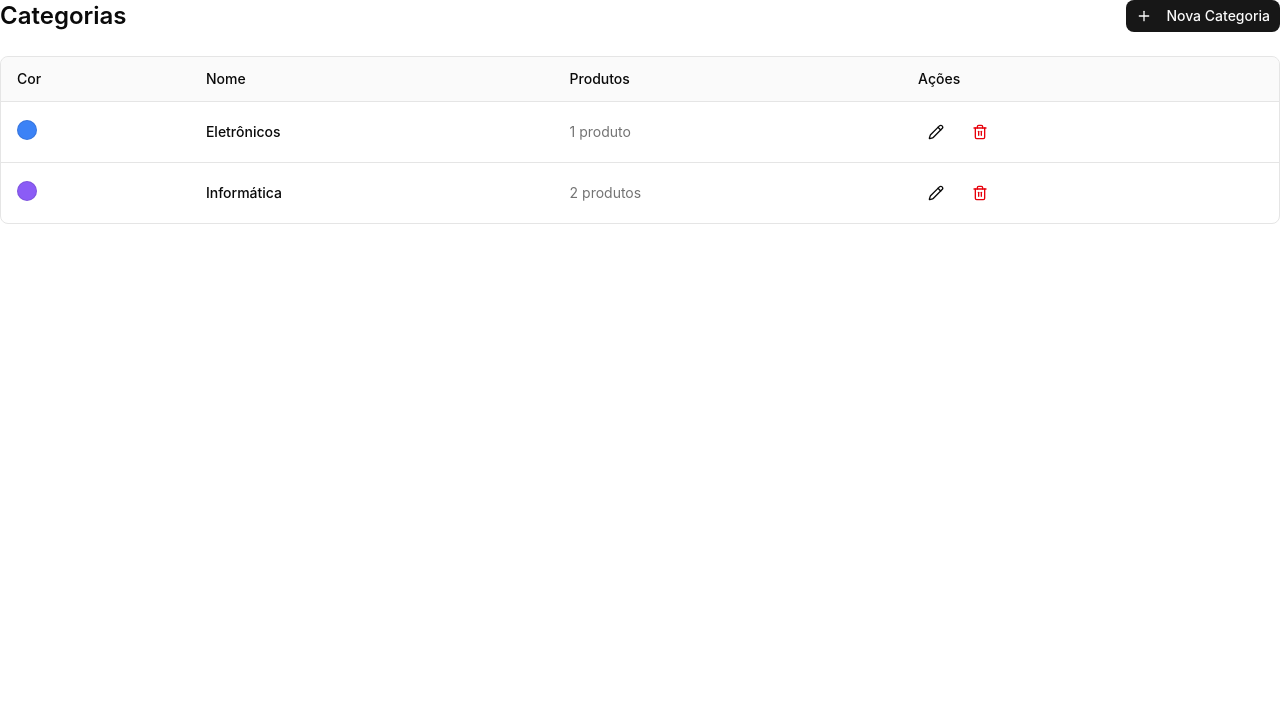
CategoriesPage › cria nova categoria e a exibe na tabela
Expected: the text "Eletrônicos" is shown, [190,102,554,162]
Click the button "Nova Categoria" at (1203, 16), box [1126,0,1279,32]
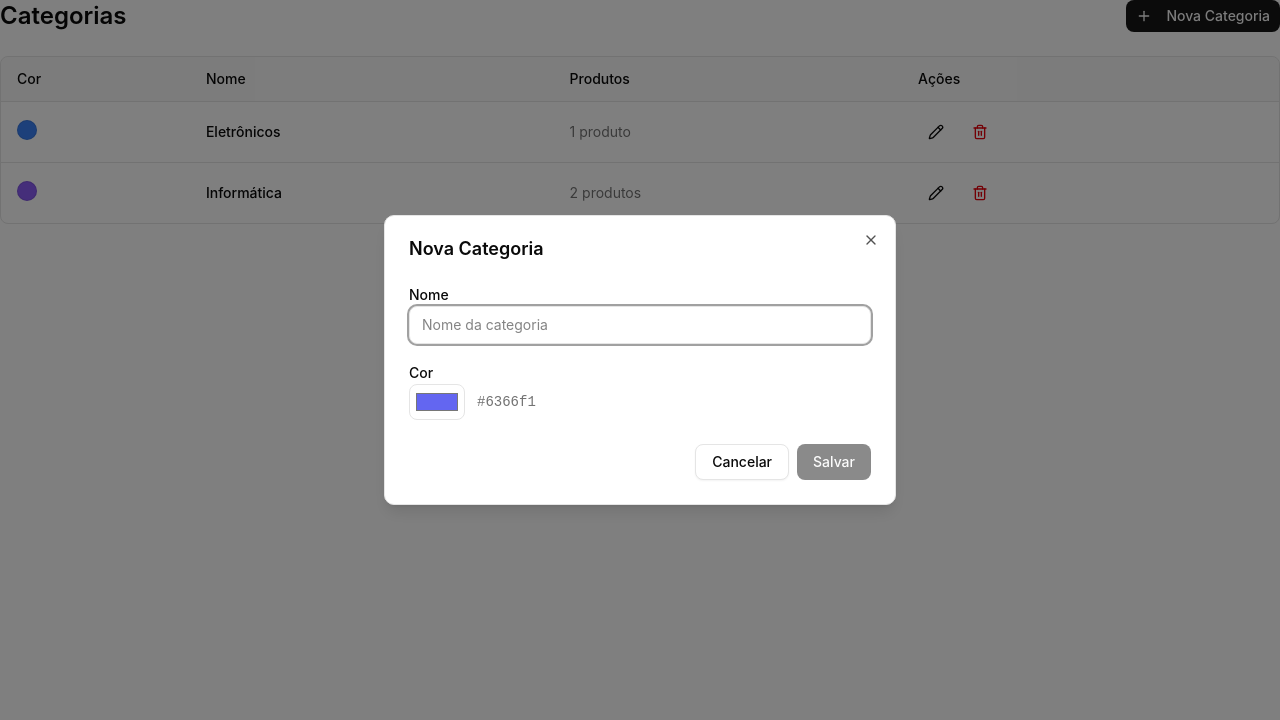
Type "Acessórios" into the field with test id "field-cat-name" at (640, 325), box [409,306,871,344]
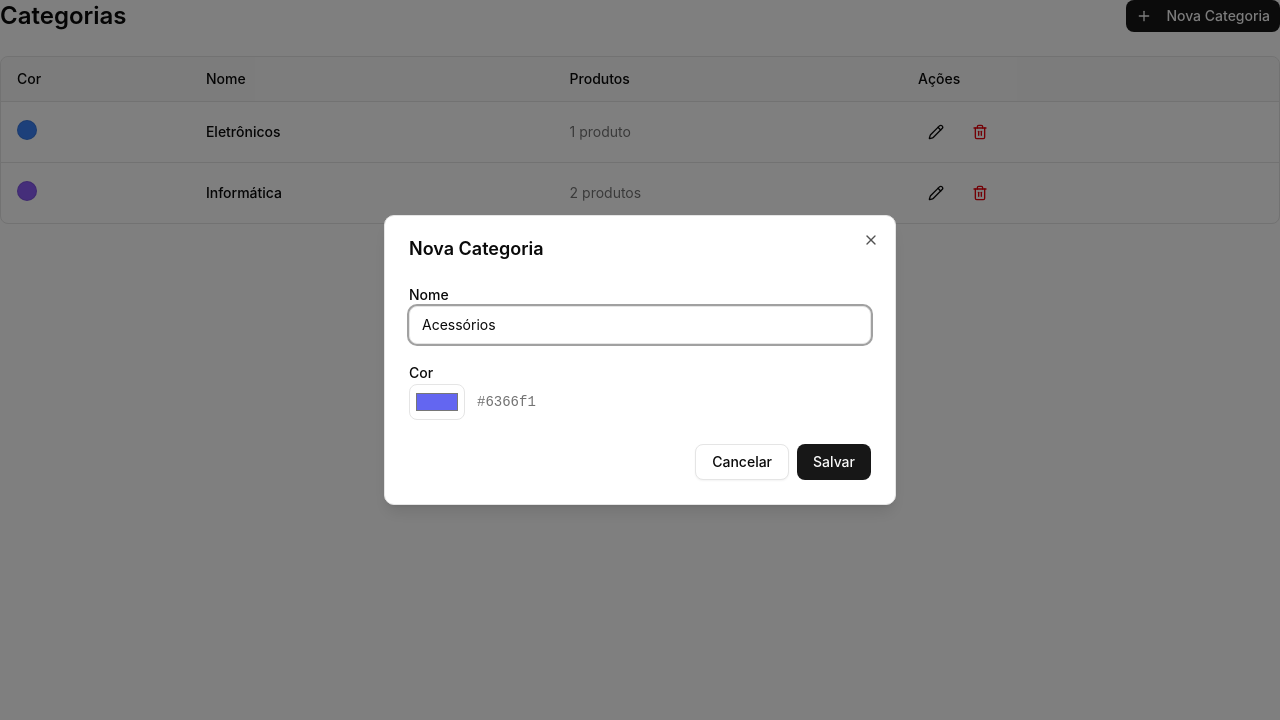
Click the button "Salvar" at (834, 462), box [797,444,871,480]
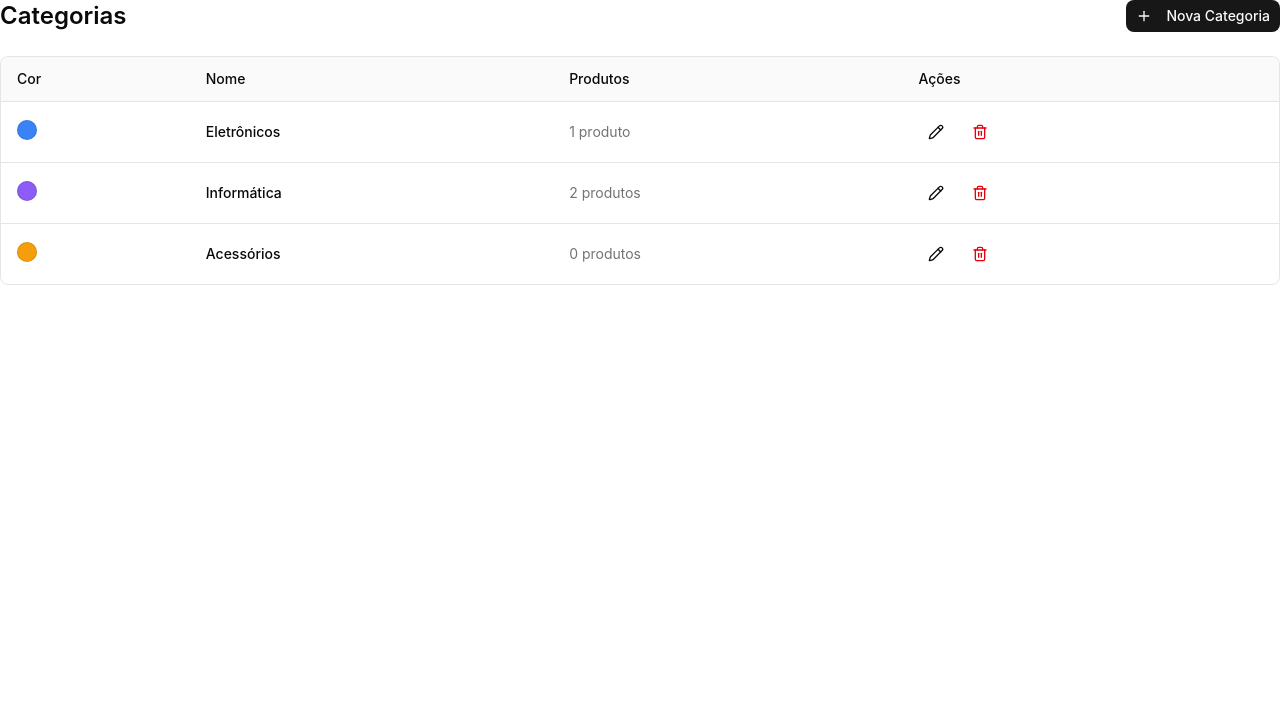
Result: the text "Acessórios" is shown at [190,224,553,284]
